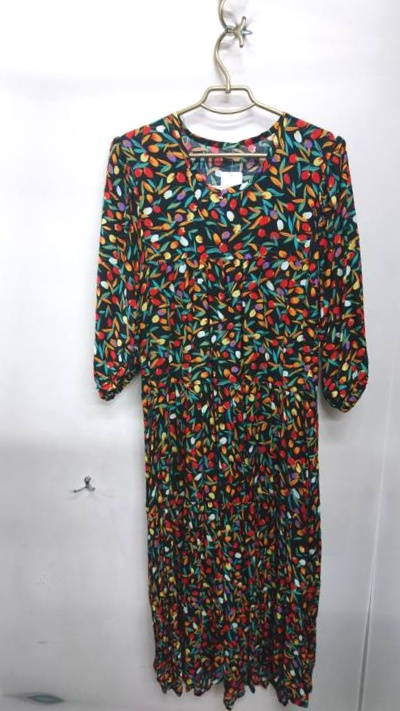Dress: (36, 71, 400, 699), (367, 103, 400, 711)
